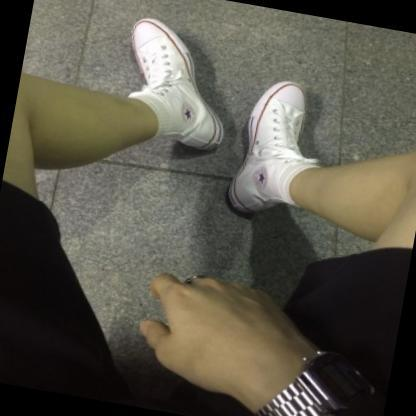no_safety-shoe: (113, 11, 248, 175), (218, 53, 327, 242)
